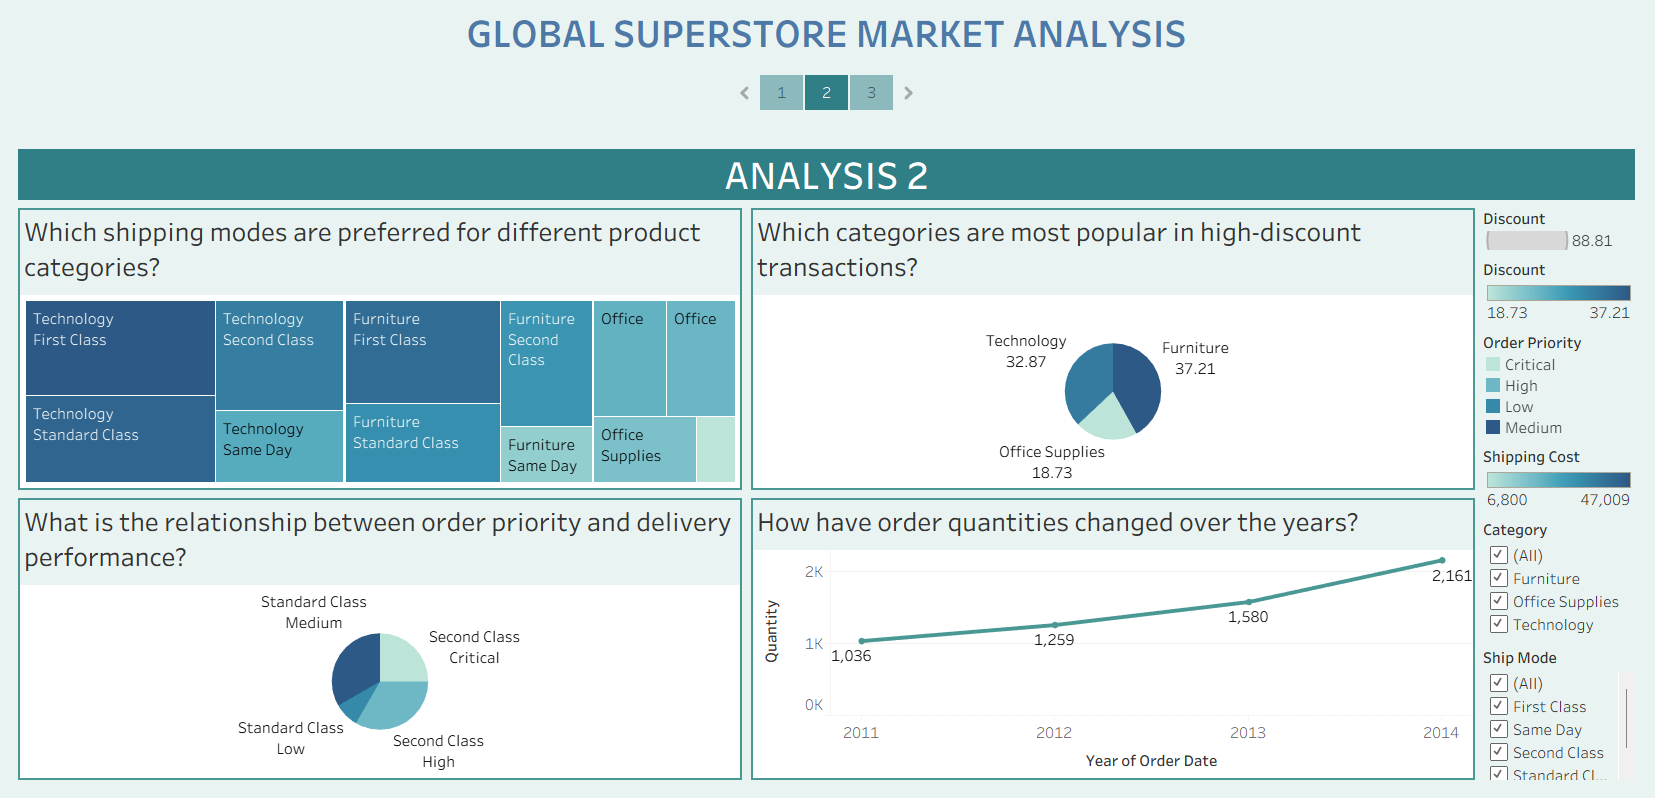

Layout of this report page (visuals, bound fields, positions):
{"tool":"tableau","page":{"name":"Dashboard 2","canvas":[1000,1000],"units":"permille","ordinal":1},"visuals":[{"type":"title","box":[4.8,10,990.3,73.7]},{"type":"worksheet","title":"Q9","mark":"Automatic","box":[4.8,83.7,446.9,453.2]},{"type":"worksheet","title":"Q6","mark":"Pie","box":[451.7,83.7,446.9,453.2]},{"type":"legend","title":"Q6","param":"[federated.0rowrb806fcned1h7k7491y5p6l9].[sum:Discount:qk]","box":[898.6,83.7,96.6,63.7]},{"type":"legend","title":"Q6","param":"[federated.0rowrb806fcned1h7k7491y5p6l9].[sum:Discount:qk]","box":[898.6,147.3,96.6,91.1]},{"type":"legend","title":"Q7","param":"[federated.0rowrb806fcned1h7k7491y5p6l9].[none:Order Priority:nk]","box":[898.6,238.5,96.6,142.3]},{"type":"legend","title":"Q9","param":"[federated.0rowrb806fcned1h7k7491y5p6l9].[sum:Shipping Cost:qk]","box":[898.6,380.8,96.6,91.1]},{"type":"filter","title":"Q9","param":"[federated.0rowrb806fcned1h7k7491y5p6l9].[none:Category:nk]","box":[898.6,471.9,96.6,159.8]},{"type":"worksheet","title":"Q7","mark":"Pie","box":[4.8,536.8,446.9,453.2]},{"type":"worksheet","title":"Q8","mark":"Automatic","rows":["Quantity"],"cols":["Order Date"],"box":[451.7,536.8,446.9,453.2]},{"type":"filter","title":"Q9","param":"[federated.0rowrb806fcned1h7k7491y5p6l9].[none:Ship Mode:nk]","box":[898.6,631.7,96.6,188.5]}]}

Visuals, with their boxes on the dashboard's canvas, which has no fixed pixel size, in thousandths of its width and height (x1, y1, x2, y2). These are canvas units, not pixel positions in the 1655x798 screenshot, which may show the page scaled, cropped or inside an application window:
title: select_region(5, 10, 995, 84)
"Q9" worksheet: select_region(5, 84, 452, 537)
"Q6" worksheet (Pie marks): select_region(452, 84, 899, 537)
"Q6" legend: select_region(899, 84, 995, 147)
"Q6" legend: select_region(899, 147, 995, 238)
"Q7" legend: select_region(899, 238, 995, 381)
"Q9" legend: select_region(899, 381, 995, 472)
"Q9" filter: select_region(899, 472, 995, 632)
"Q7" worksheet (Pie marks): select_region(5, 537, 452, 990)
"Q8" worksheet: select_region(452, 537, 899, 990)
"Q9" filter: select_region(899, 632, 995, 820)
